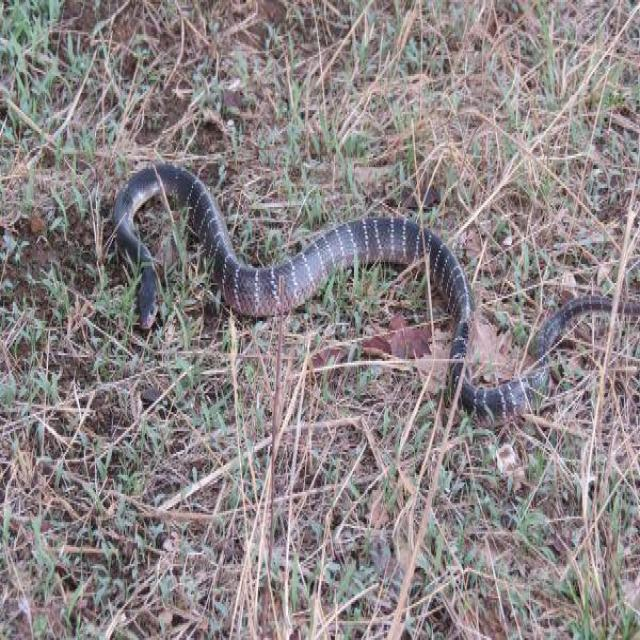Snake: (111, 160, 639, 423)
